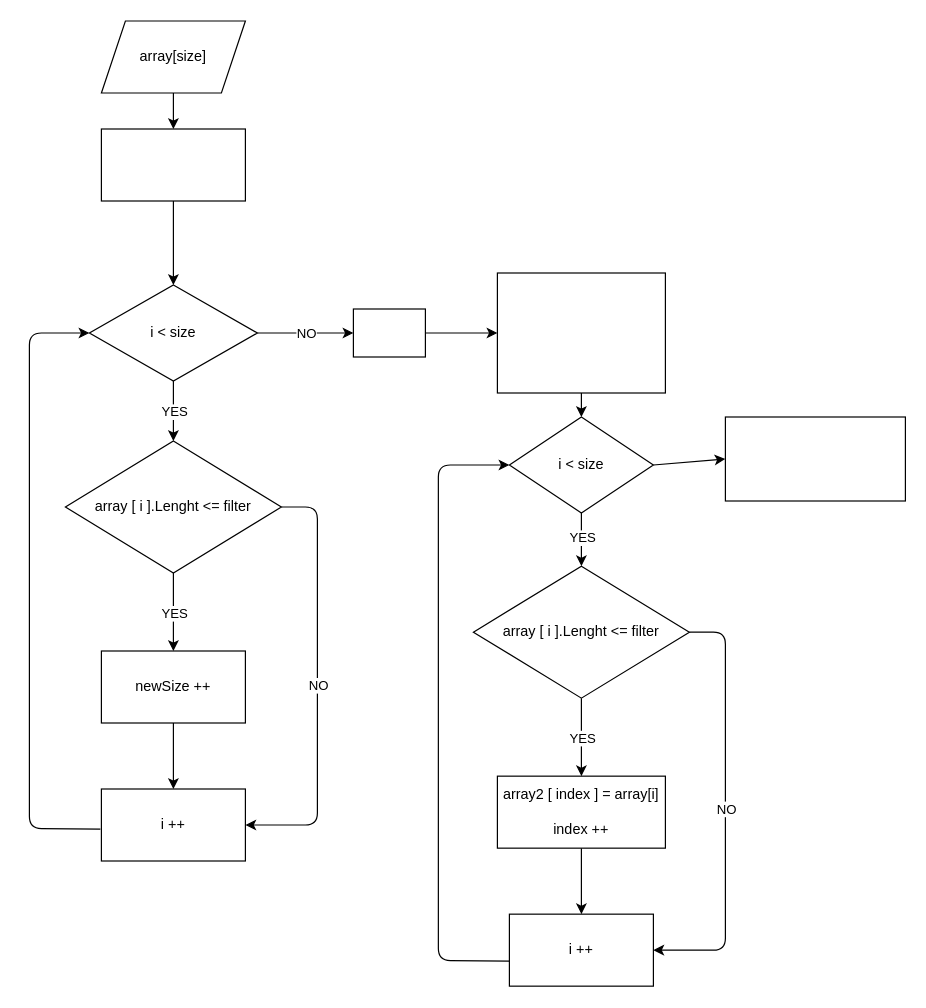
Image size: 926x1008. Some labels were removed from this diagram. Each missing label, with the centre of its shape:
array2: (x=814, y=458)
array[size] array2[newSize] index = 0 i = 0: (x=580, y=332)
i = 0 newSize = 0 filetr = 3: (x=172, y=164)
newSize: (x=388, y=332)
